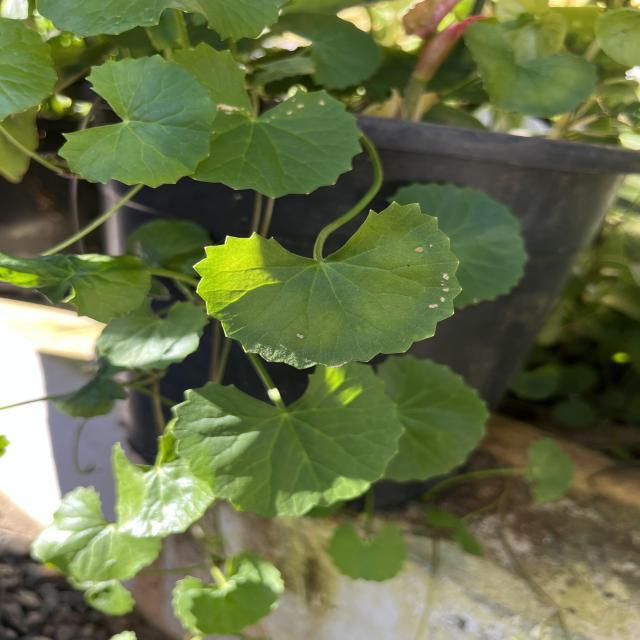Centella asiatica: (190, 196, 466, 374), (55, 51, 220, 190)
